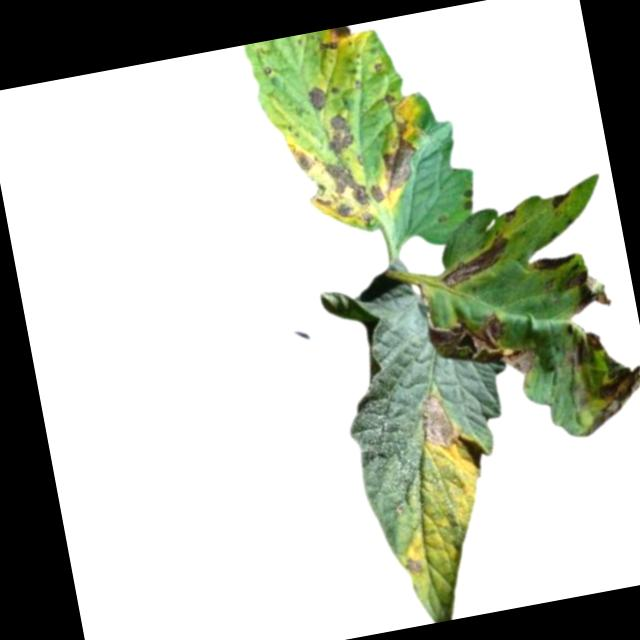Early_blight: (284, 108, 389, 236), (432, 302, 541, 390), (435, 233, 517, 290), (374, 116, 426, 193), (582, 362, 640, 429), (413, 388, 458, 451), (563, 264, 612, 317), (559, 327, 610, 373), (531, 246, 582, 274), (315, 24, 361, 54), (304, 83, 329, 113), (403, 550, 426, 577), (549, 186, 573, 208), (459, 184, 476, 210), (501, 206, 515, 224), (382, 91, 398, 104)
